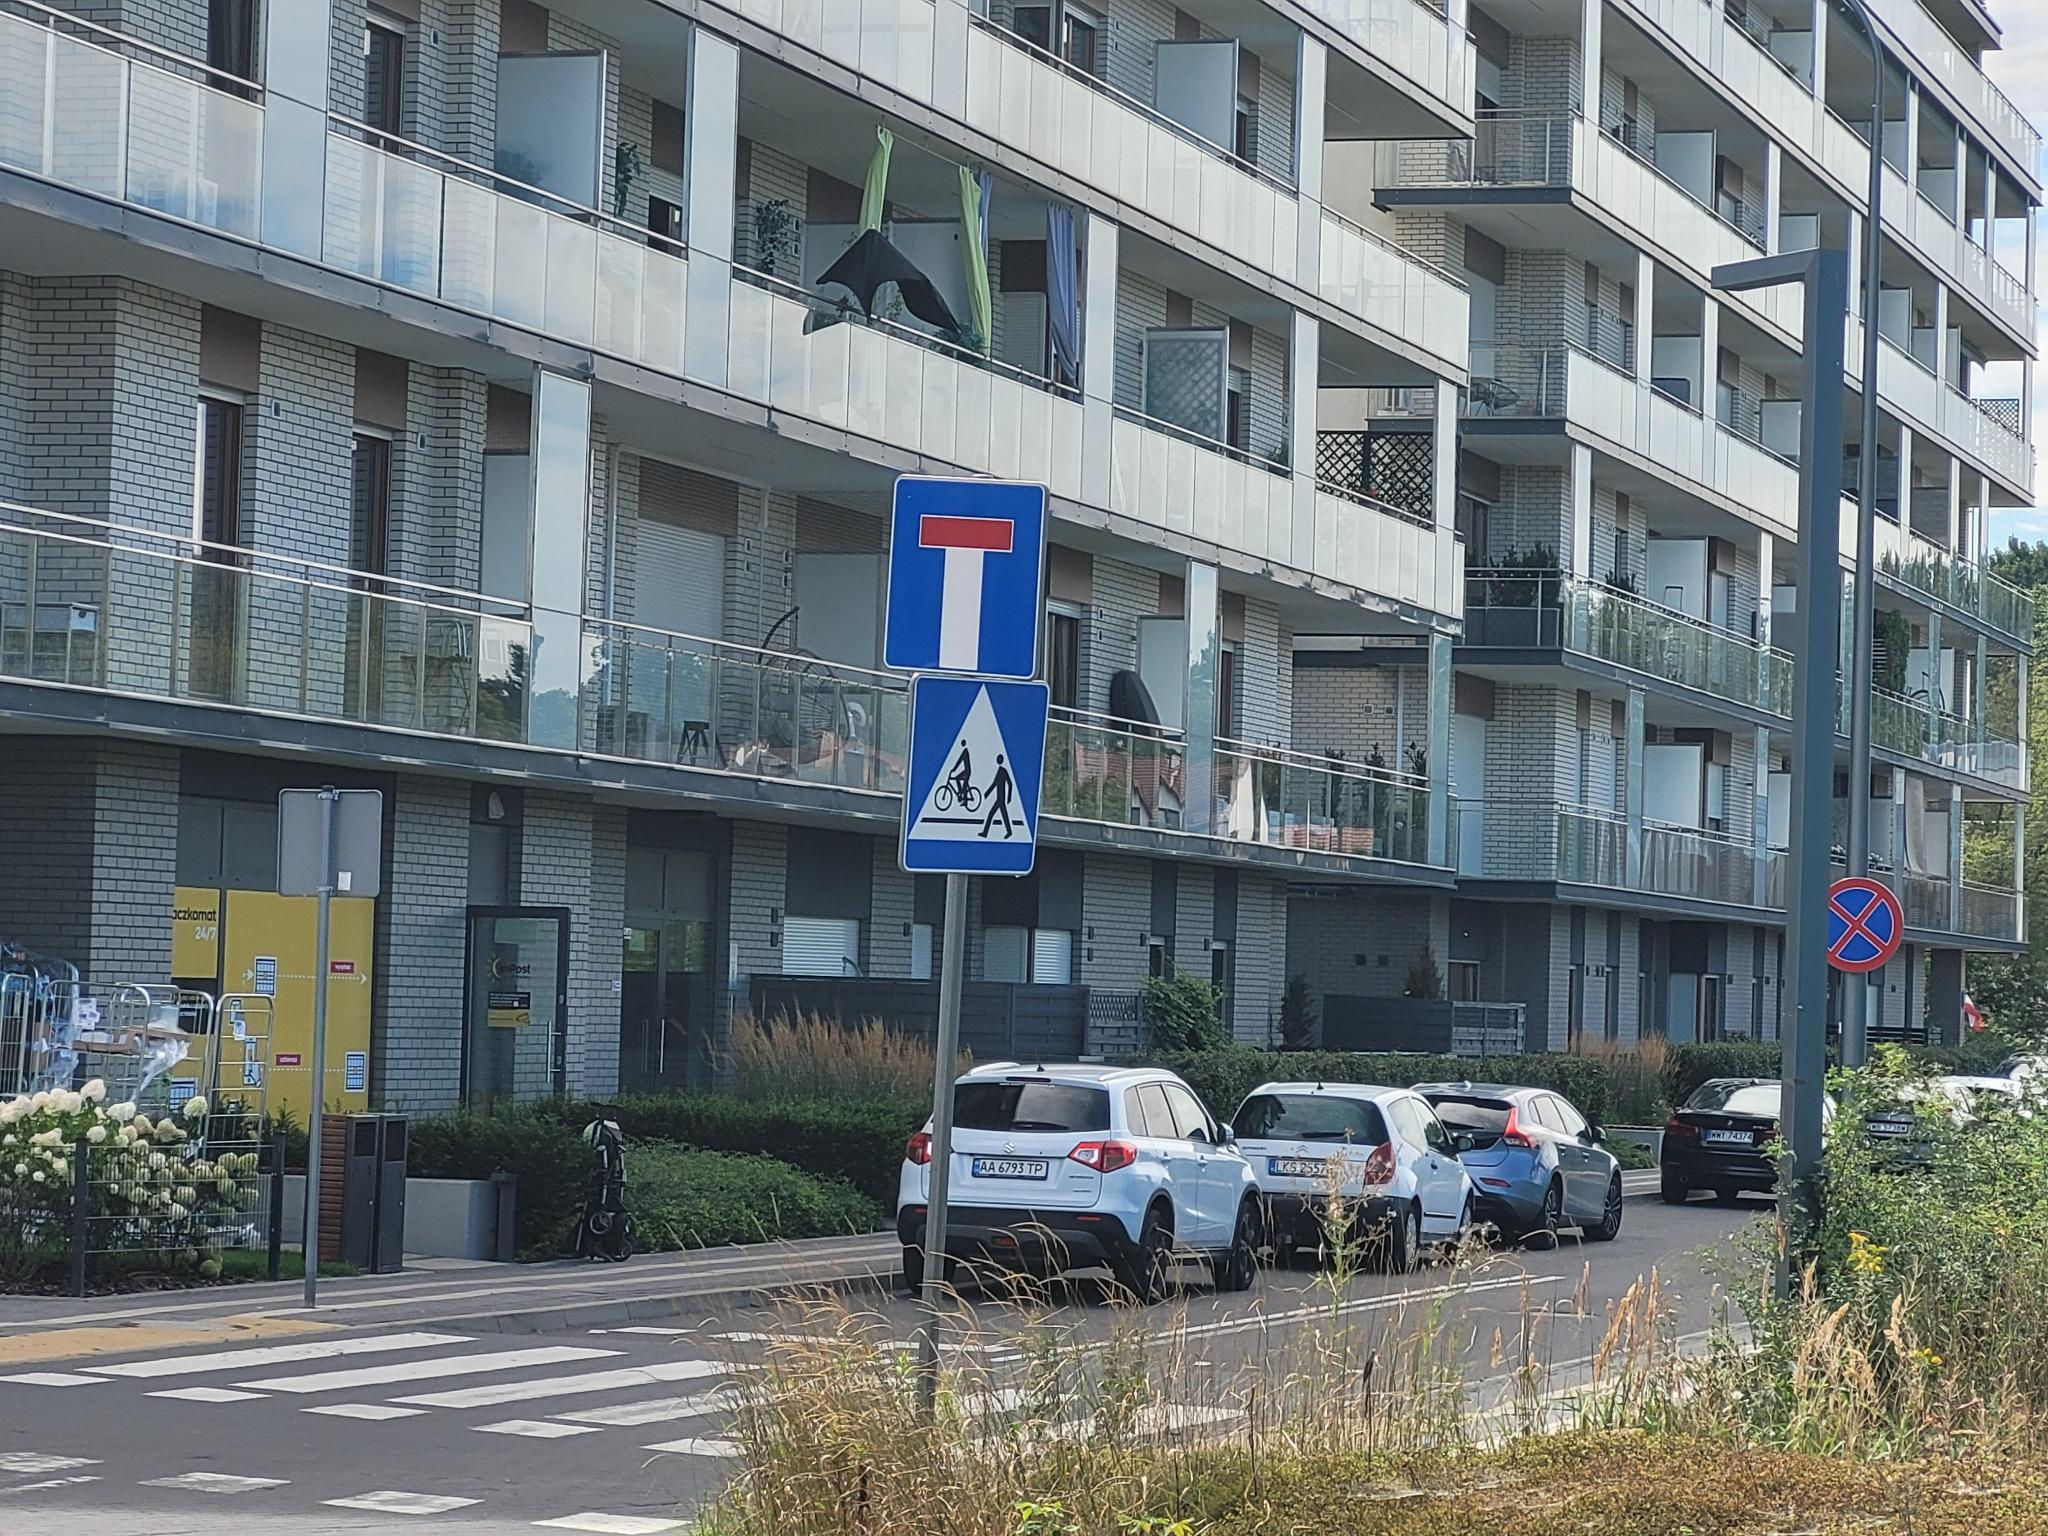information: (887, 474, 1037, 674), (905, 679, 1039, 874)
prohibitory: (1827, 876, 1904, 975)
